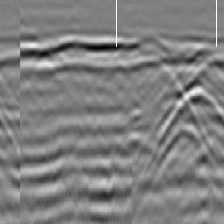Utility: (152, 76, 224, 153), (117, 35, 177, 74)
